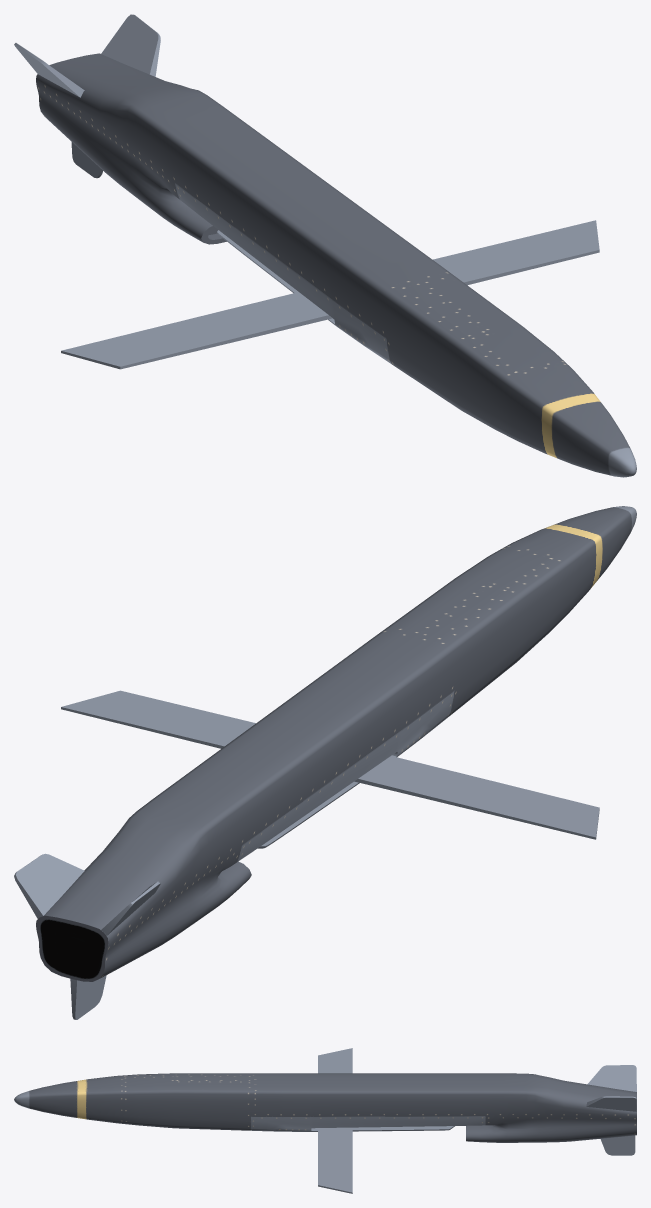
The model's file is ADM-160 MALD.gltf.
The picture shows the model from 3 angles, top to bottom: view 1: azimuth 30°, elevation 25°; view 2: azimuth 150°, elevation 25°; view 3: azimuth 270°, elevation 25°; orthographic projection. The views are drawn at different scales.
Visible parts, largest first — view 1: ADM-160_MALD_low, Wings, Back Fins; view 2: ADM-160_MALD_low, Wings, Back Fins; view 3: ADM-160_MALD_low, Wings, Back Fins.
Boxes of the visible parts, x1,y1,x2,y2 form: ADM-160_MALD_low: [36, 53, 636, 477]; Wings: [61, 220, 599, 369]; Back Fins: [14, 14, 160, 178]; ADM-160_MALD_low: [36, 506, 636, 981]; Wings: [61, 690, 599, 839]; Back Fins: [14, 853, 160, 1019]; ADM-160_MALD_low: [14, 1073, 636, 1142]; Wings: [318, 1048, 352, 1193]; Back Fins: [586, 1065, 636, 1155].
Bounding box in the file's own units: 5.38 × 1.29 × 9.79.
3 materials, 3 textured.
